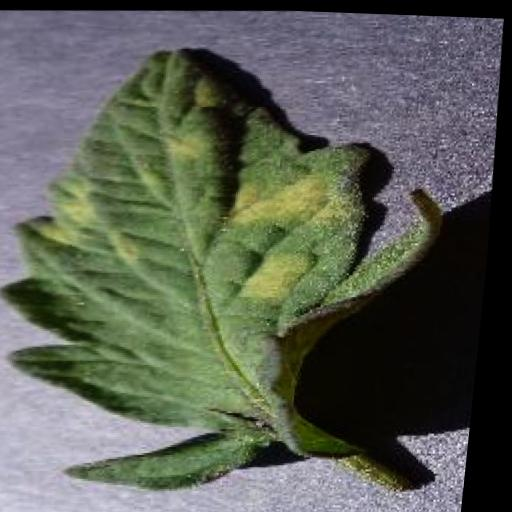Leaf Mold: (0, 31, 465, 503)
